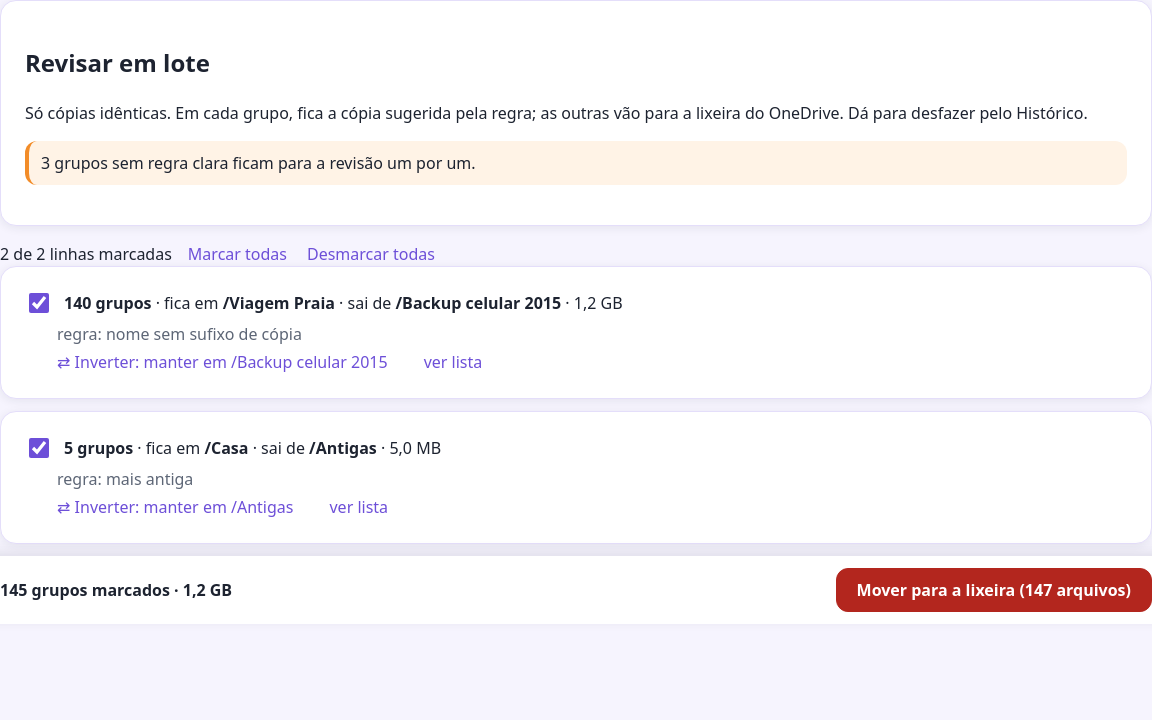
Test: ver lista mostra os caminhos
Expected: the text "140 grupos" is shown, 64,292 -> 152,314
Click the button "ver lista" below "/Viagem Praia": (453, 362) 420,351 -> 486,373
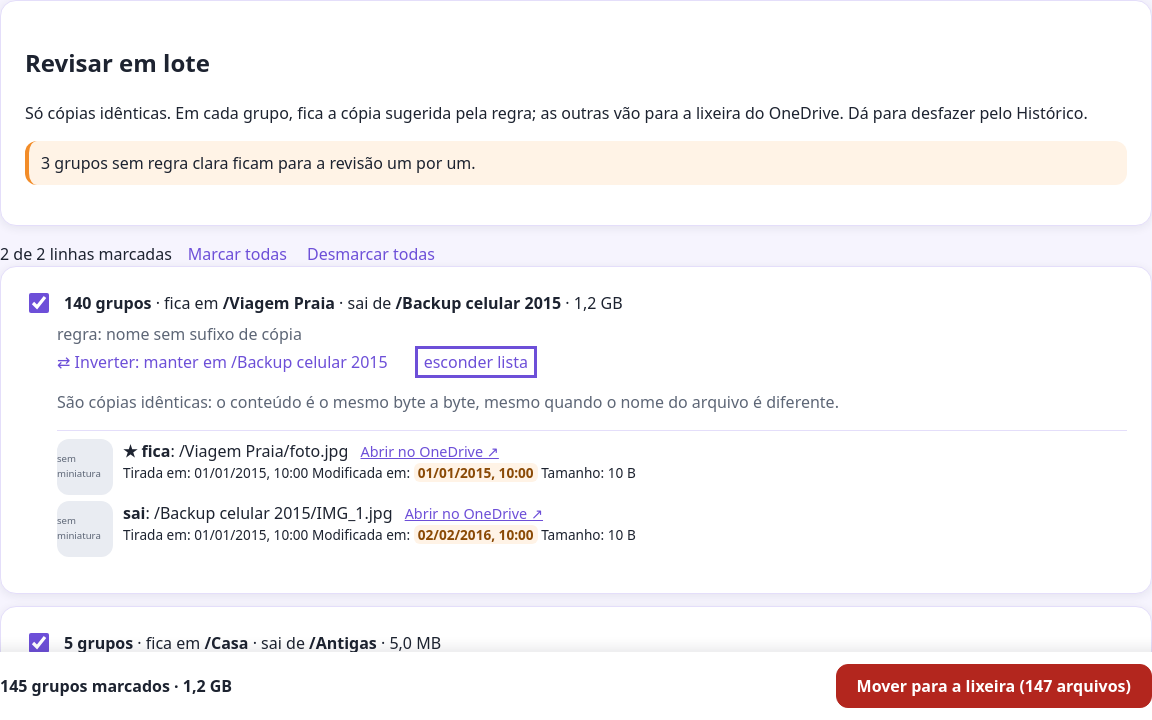
Expected: the text "★ fica" is shown, 123,440 -> 170,462
Expected: the text "★ fica: /Viagem Praia/foto.jpg Abrir no OneDrive ↗" is shown, 123,440 -> 499,462
Expected: the text "sai: /Backup celular 2015/IMG_1.jpg Abrir no OneDrive ↗" is shown, 123,502 -> 543,524
